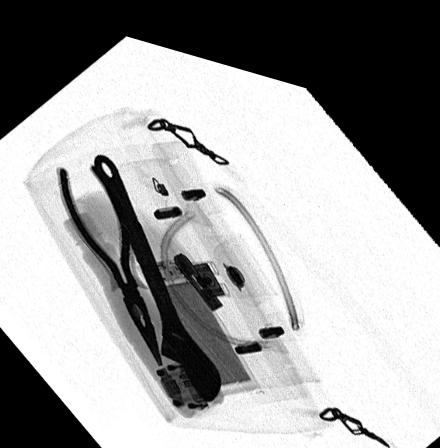Pliers: (56, 154, 164, 358)
Powerbank: (135, 250, 258, 386)
Wrench: (92, 148, 221, 392)
